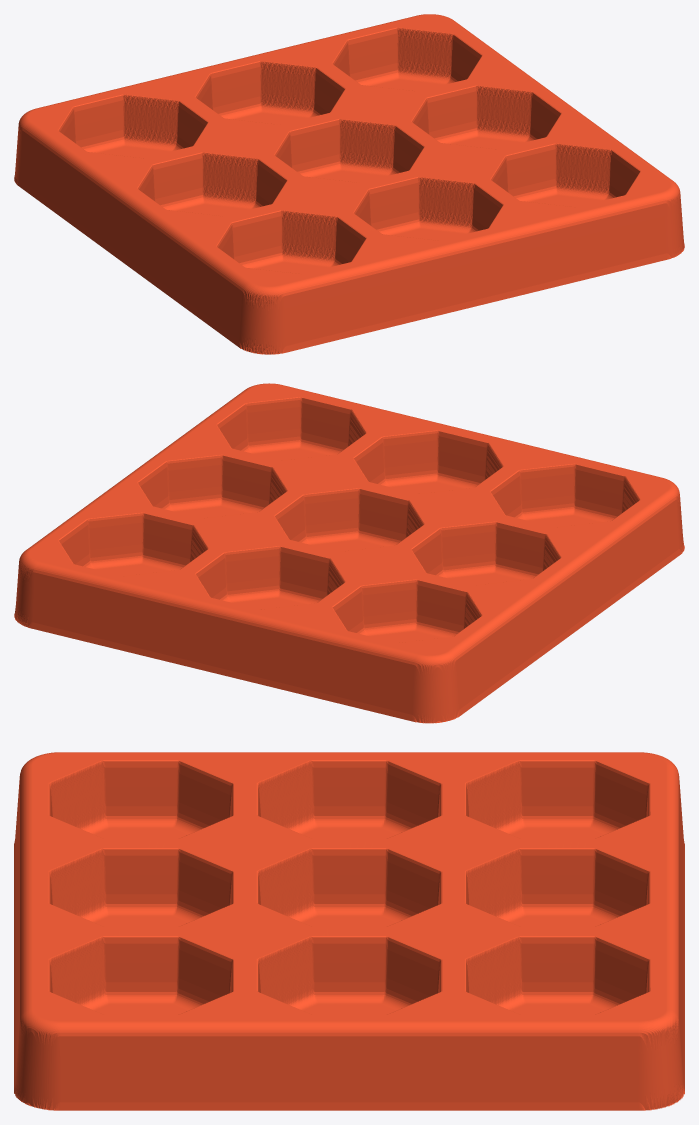
The model's file is mold.glb.
3 renders of one model, top to bottom at view 1: azimuth 30°, elevation 25°; view 2: azimuth 150°, elevation 25°; view 3: azimuth 270°, elevation 25°, orthographic. The views are drawn at different scales.
Visible parts, largest first — view 1: geometry_0; view 2: geometry_0; view 3: geometry_0.
Part boxes in pixels (bbox=[...]): geometry_0: bbox=[14, 14, 684, 354]; geometry_0: bbox=[14, 383, 684, 723]; geometry_0: bbox=[14, 752, 684, 1110].
Size of the model in its own units: 0.1304 by 0.0175 by 0.1304.
